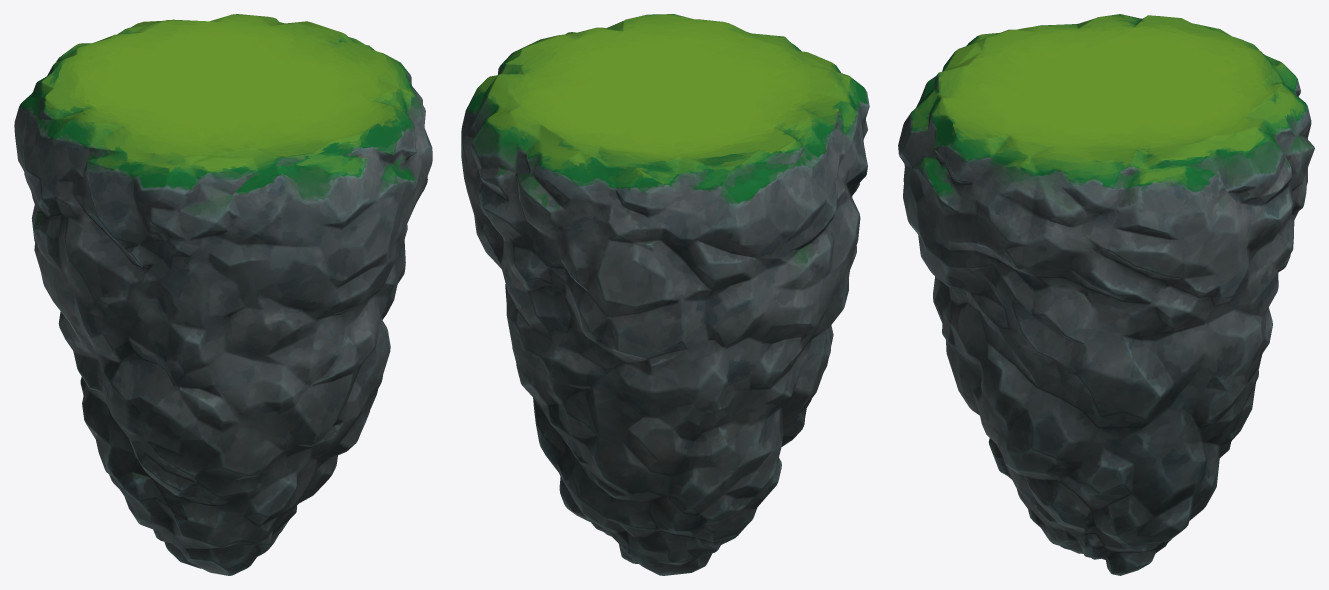
File: Rock_1.fbx
3 renders of one model, left to right at view 1: azimuth 30°, elevation 25°; view 2: azimuth 150°, elevation 25°; view 3: azimuth 270°, elevation 25°, orthographic.
Visible parts, largest first — view 1: Rock_1; view 2: Rock_1; view 3: Rock_1.
Part boxes in pixels (x1,y1,x2,y2): Rock_1: (14, 14, 432, 575); Rock_1: (461, 14, 869, 575); Rock_1: (898, 14, 1314, 575).
Bounding box in the file's own units: 356 × 466 × 365.
